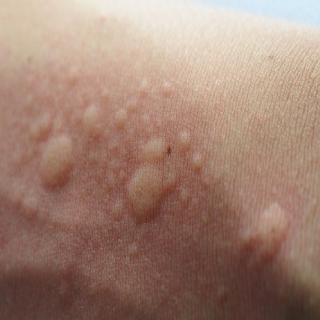urticaria: (3, 191, 92, 320), (54, 63, 175, 140), (116, 133, 183, 214), (236, 193, 298, 263), (26, 114, 83, 185), (193, 145, 226, 201), (199, 270, 235, 313), (119, 236, 151, 268)
